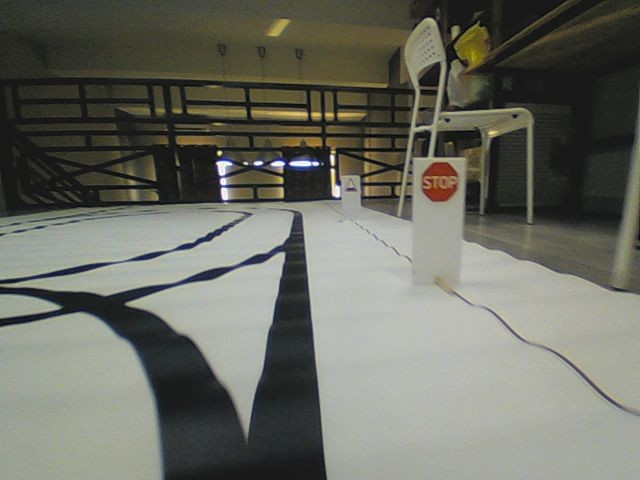Nerov: (344, 177, 357, 194)
Stop: (419, 160, 460, 205)
